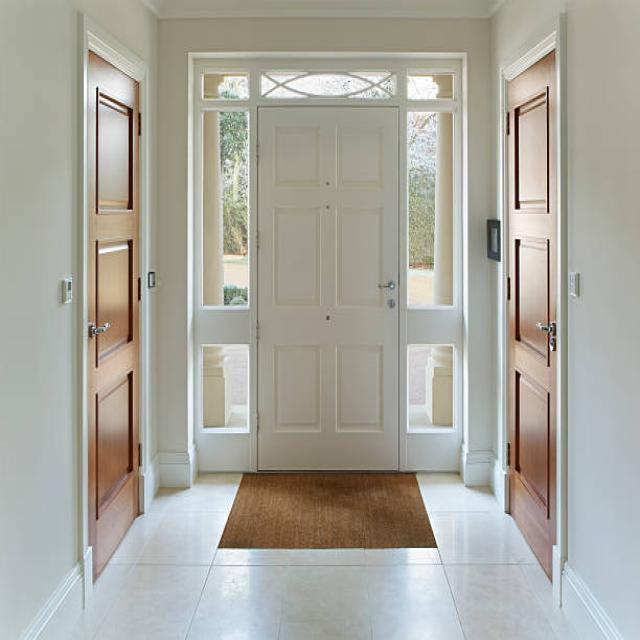door: (193, 57, 462, 478), (77, 12, 149, 610), (498, 15, 561, 606)
